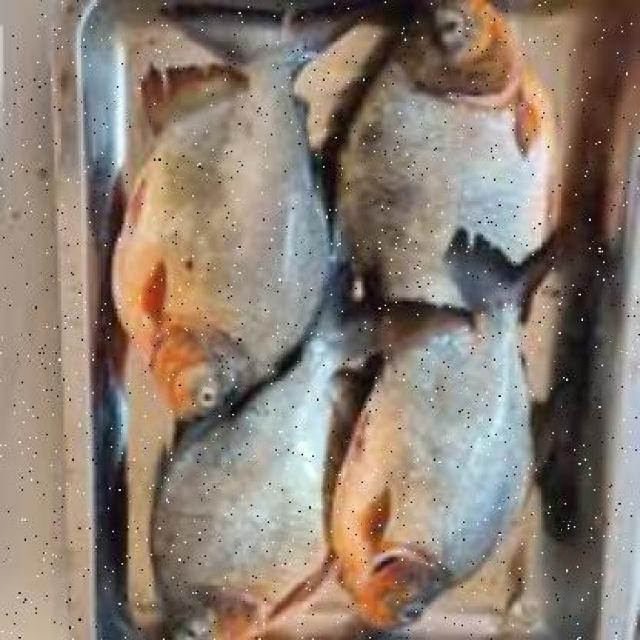ikan-pacu: (112, 12, 337, 410), (346, 282, 546, 624), (150, 316, 364, 635), (336, 0, 547, 311)
